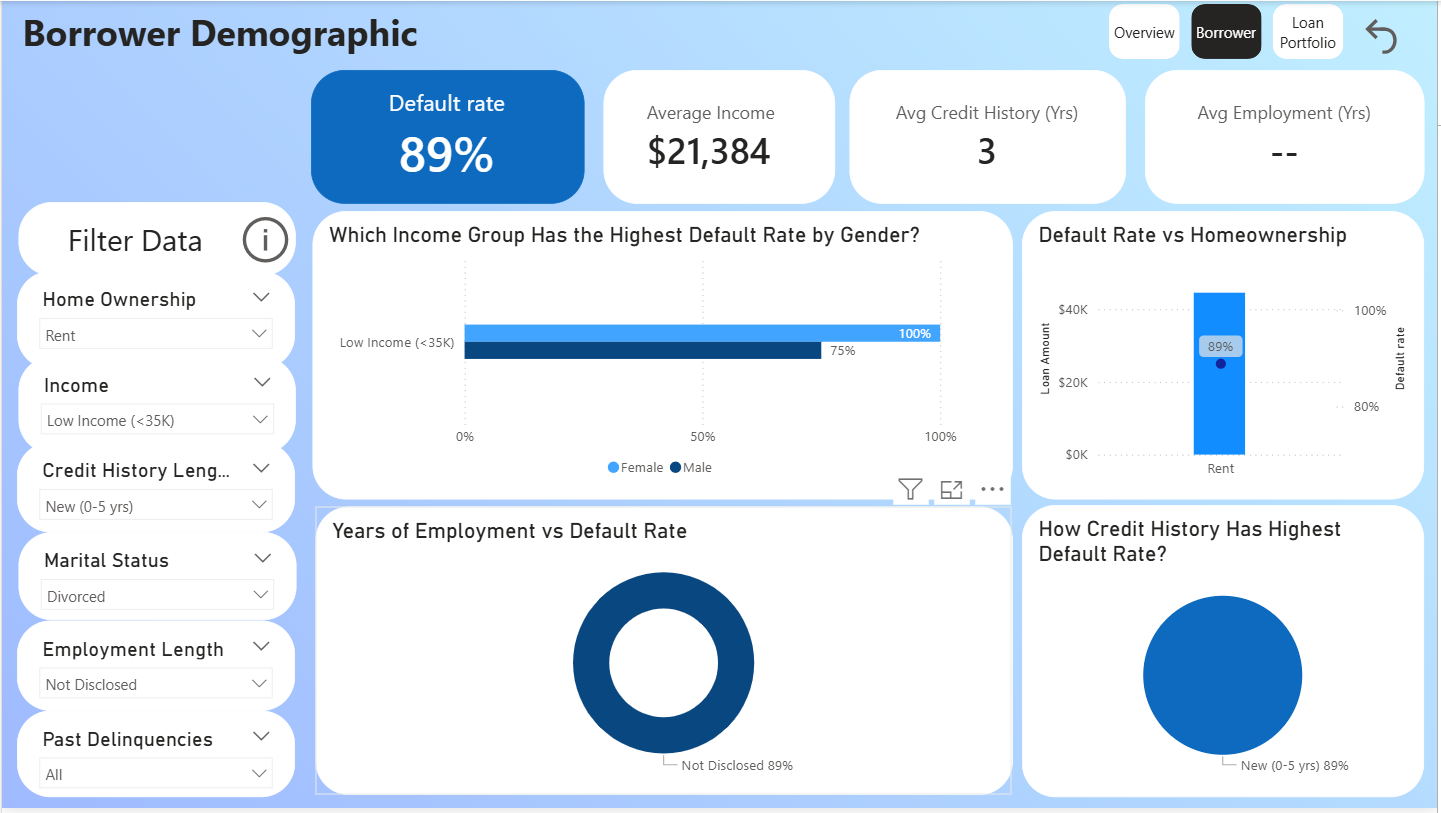

This screenshot's page, from the dashboard's own definition file:
{"tool":"powerbi","page":{"name":"Borrower","canvas":[1280,720],"ordinal":1},"visuals":[{"type":"clusteredBarChart","title":"Which Income Group Has the Highest Default Rate by Gender?","fields":{"Category":["Dim_Borrower.income_group"],"Y":["Fact_Loan.Default rate"],"Series":["Dim_Borrower.gender"]},"box":[276.3,187.1,624.7,257.6],"z":0},{"type":"donutChart","title":"Years of Employment vs  Default Rate","fields":{"Y":["Fact_Loan.Default rate"],"Category":["Dim_Borrower.emp_length_group"]},"box":[279.2,450.5,621.8,257.6],"z":1000},{"type":"pieChart","title":"How Credit History Has Highest Default Rate?","fields":{"Category":["Dim_Borrower.cred_hist_group"],"Y":["Fact_Loan.Default rate"]},"box":[910.1,450.2,358.8,260.4],"z":2000},{"type":"slicer","fields":{"Values":["Dim_Borrower.income_group"]},"box":[14.4,316.6,247.6,86.4],"z":3000},{"type":"slicer","fields":{"Values":["Dim_Borrower.home_ownership"]},"box":[13.9,241,248,87.3],"z":4000},{"type":"slicer","fields":{"Values":["Dim_Borrower.cred_hist_group"]},"box":[13.9,393.4,248,80.3],"z":5000},{"type":"slicer","fields":{"Values":["Dim_Borrower.marital_status"]},"box":[15.2,473.8,248,79],"z":6000},{"type":"slicer","fields":{"Values":["Dim_Borrower.emp_length_group"]},"box":[13.9,552.7,248,80.3],"z":7000},{"type":"cardVisual","fields":{"Data":["Avg(Dim_Borrower.emp_length)"]},"box":[1019.6,61,249.4,119.1],"z":8000},{"type":"cardVisual","fields":{"Data":["Avg(Dim_Borrower.cred_hist_length)"]},"box":[756.4,61,246.6,119.1],"z":9000},{"type":"cardVisual","fields":{"Data":["Avg(Dim_Borrower.income)"]},"box":[536.1,61,206.4,119.1],"z":10000},{"type":"pageNavigator","box":[987.7,2.8,211.9,49.9],"z":11000},{"type":"actionButton","box":[1209.4,11.1,59.6,41.6],"z":12000},{"type":"textbox","box":[14.4,179.9,247.6,66.2],"z":13000},{"type":"actionButton","box":[209.2,184.2,52.6,56.8],"z":14000},{"type":"cardVisual","fields":{"Data":["Fact_Loan.Default rate"]},"box":[275.7,61,243.8,119.1],"z":15000},{"type":"lineStackedColumnComboChart","title":"Default Rate vs Homeownership ","fields":{"Y":["Sum(Fact_Loan.loan_amount)"],"Category":["Dim_Borrower.home_ownership"],"Y2":["Fact_Loan.Default rate"]},"box":[909.6,187.1,358.4,257.6],"z":16000},{"type":"slicer","fields":{"Values":["Fact_Loan.past_delinquencies"]},"box":[13.9,633.1,248,77.6],"z":17000},{"type":"textbox","box":[13.9,0,414.2,81.7],"z":18000}]}

Visuals, with their boxes in screenshot pixels (x1, y1, x2, y2), scaled from the page's 1280x720 canvas onto the 1441x813 screenshot:
"Which Income Group Has the Highest Default Rate by Gender?" clusteredBarChart: [x1=311, y1=211, x2=1014, y2=502]
"Years of Employment vs  Default Rate" donutChart: [x1=314, y1=509, x2=1014, y2=800]
"How Credit History Has Highest Default Rate?" pieChart: [x1=1025, y1=508, x2=1429, y2=802]
slicer - Dim_Borrower.income_group: [x1=16, y1=357, x2=295, y2=455]
slicer - Dim_Borrower.home_ownership: [x1=16, y1=272, x2=295, y2=371]
slicer - Dim_Borrower.cred_hist_group: [x1=16, y1=444, x2=295, y2=535]
slicer - Dim_Borrower.marital_status: [x1=17, y1=535, x2=296, y2=624]
slicer - Dim_Borrower.emp_length_group: [x1=16, y1=624, x2=295, y2=715]
cardVisual - Avg(Dim_Borrower.emp_length): [x1=1148, y1=69, x2=1429, y2=203]
cardVisual - Avg(Dim_Borrower.cred_hist_length): [x1=852, y1=69, x2=1129, y2=203]
cardVisual - Avg(Dim_Borrower.income): [x1=604, y1=69, x2=836, y2=203]
pageNavigator: [x1=1112, y1=3, x2=1350, y2=60]
actionButton: [x1=1362, y1=13, x2=1429, y2=60]
textbox: [x1=16, y1=203, x2=295, y2=278]
actionButton: [x1=236, y1=208, x2=295, y2=272]
cardVisual - Fact_Loan.Default rate: [x1=310, y1=69, x2=585, y2=203]
"Default Rate vs Homeownership " lineStackedColumnComboChart: [x1=1024, y1=211, x2=1427, y2=502]
slicer - Fact_Loan.past_delinquencies: [x1=16, y1=715, x2=295, y2=802]
textbox: [x1=16, y1=0, x2=482, y2=92]
